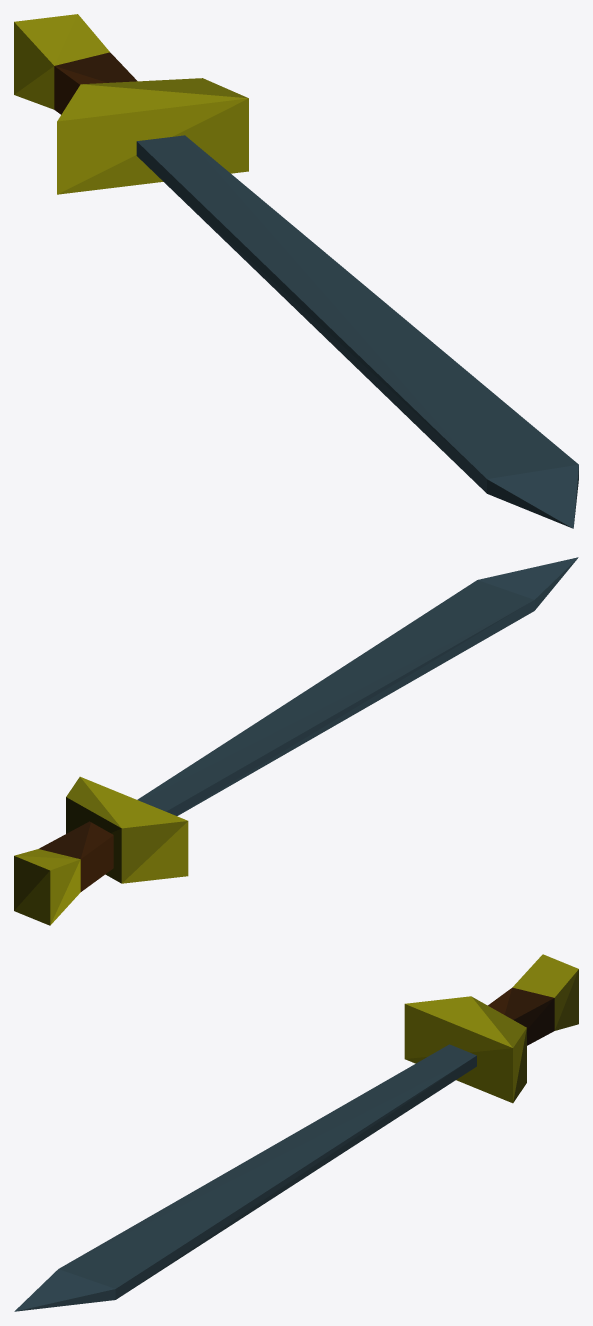
The model's file is runite-sword.obj.
The picture shows the model from 3 angles, top to bottom: view 1: azimuth 30°, elevation 25°; view 2: azimuth 150°, elevation 25°; view 3: azimuth 330°, elevation 25°; orthographic projection. The views are drawn at different scales.
Parts seen in each view (by area): view 1: Item Steel sword 2026-09-24_13-26-02; view 2: Item Steel sword 2026-09-24_13-26-02; view 3: Item Steel sword 2026-09-24_13-26-02.
Part boxes in pixels (box(x1,y1,x2,y2)): Item Steel sword 2026-09-24_13-26-02: box(14, 14, 578, 528); Item Steel sword 2026-09-24_13-26-02: box(14, 557, 578, 925); Item Steel sword 2026-09-24_13-26-02: box(14, 954, 578, 1311).
Bounding box in the file's own units: 13 × 5 × 78.
